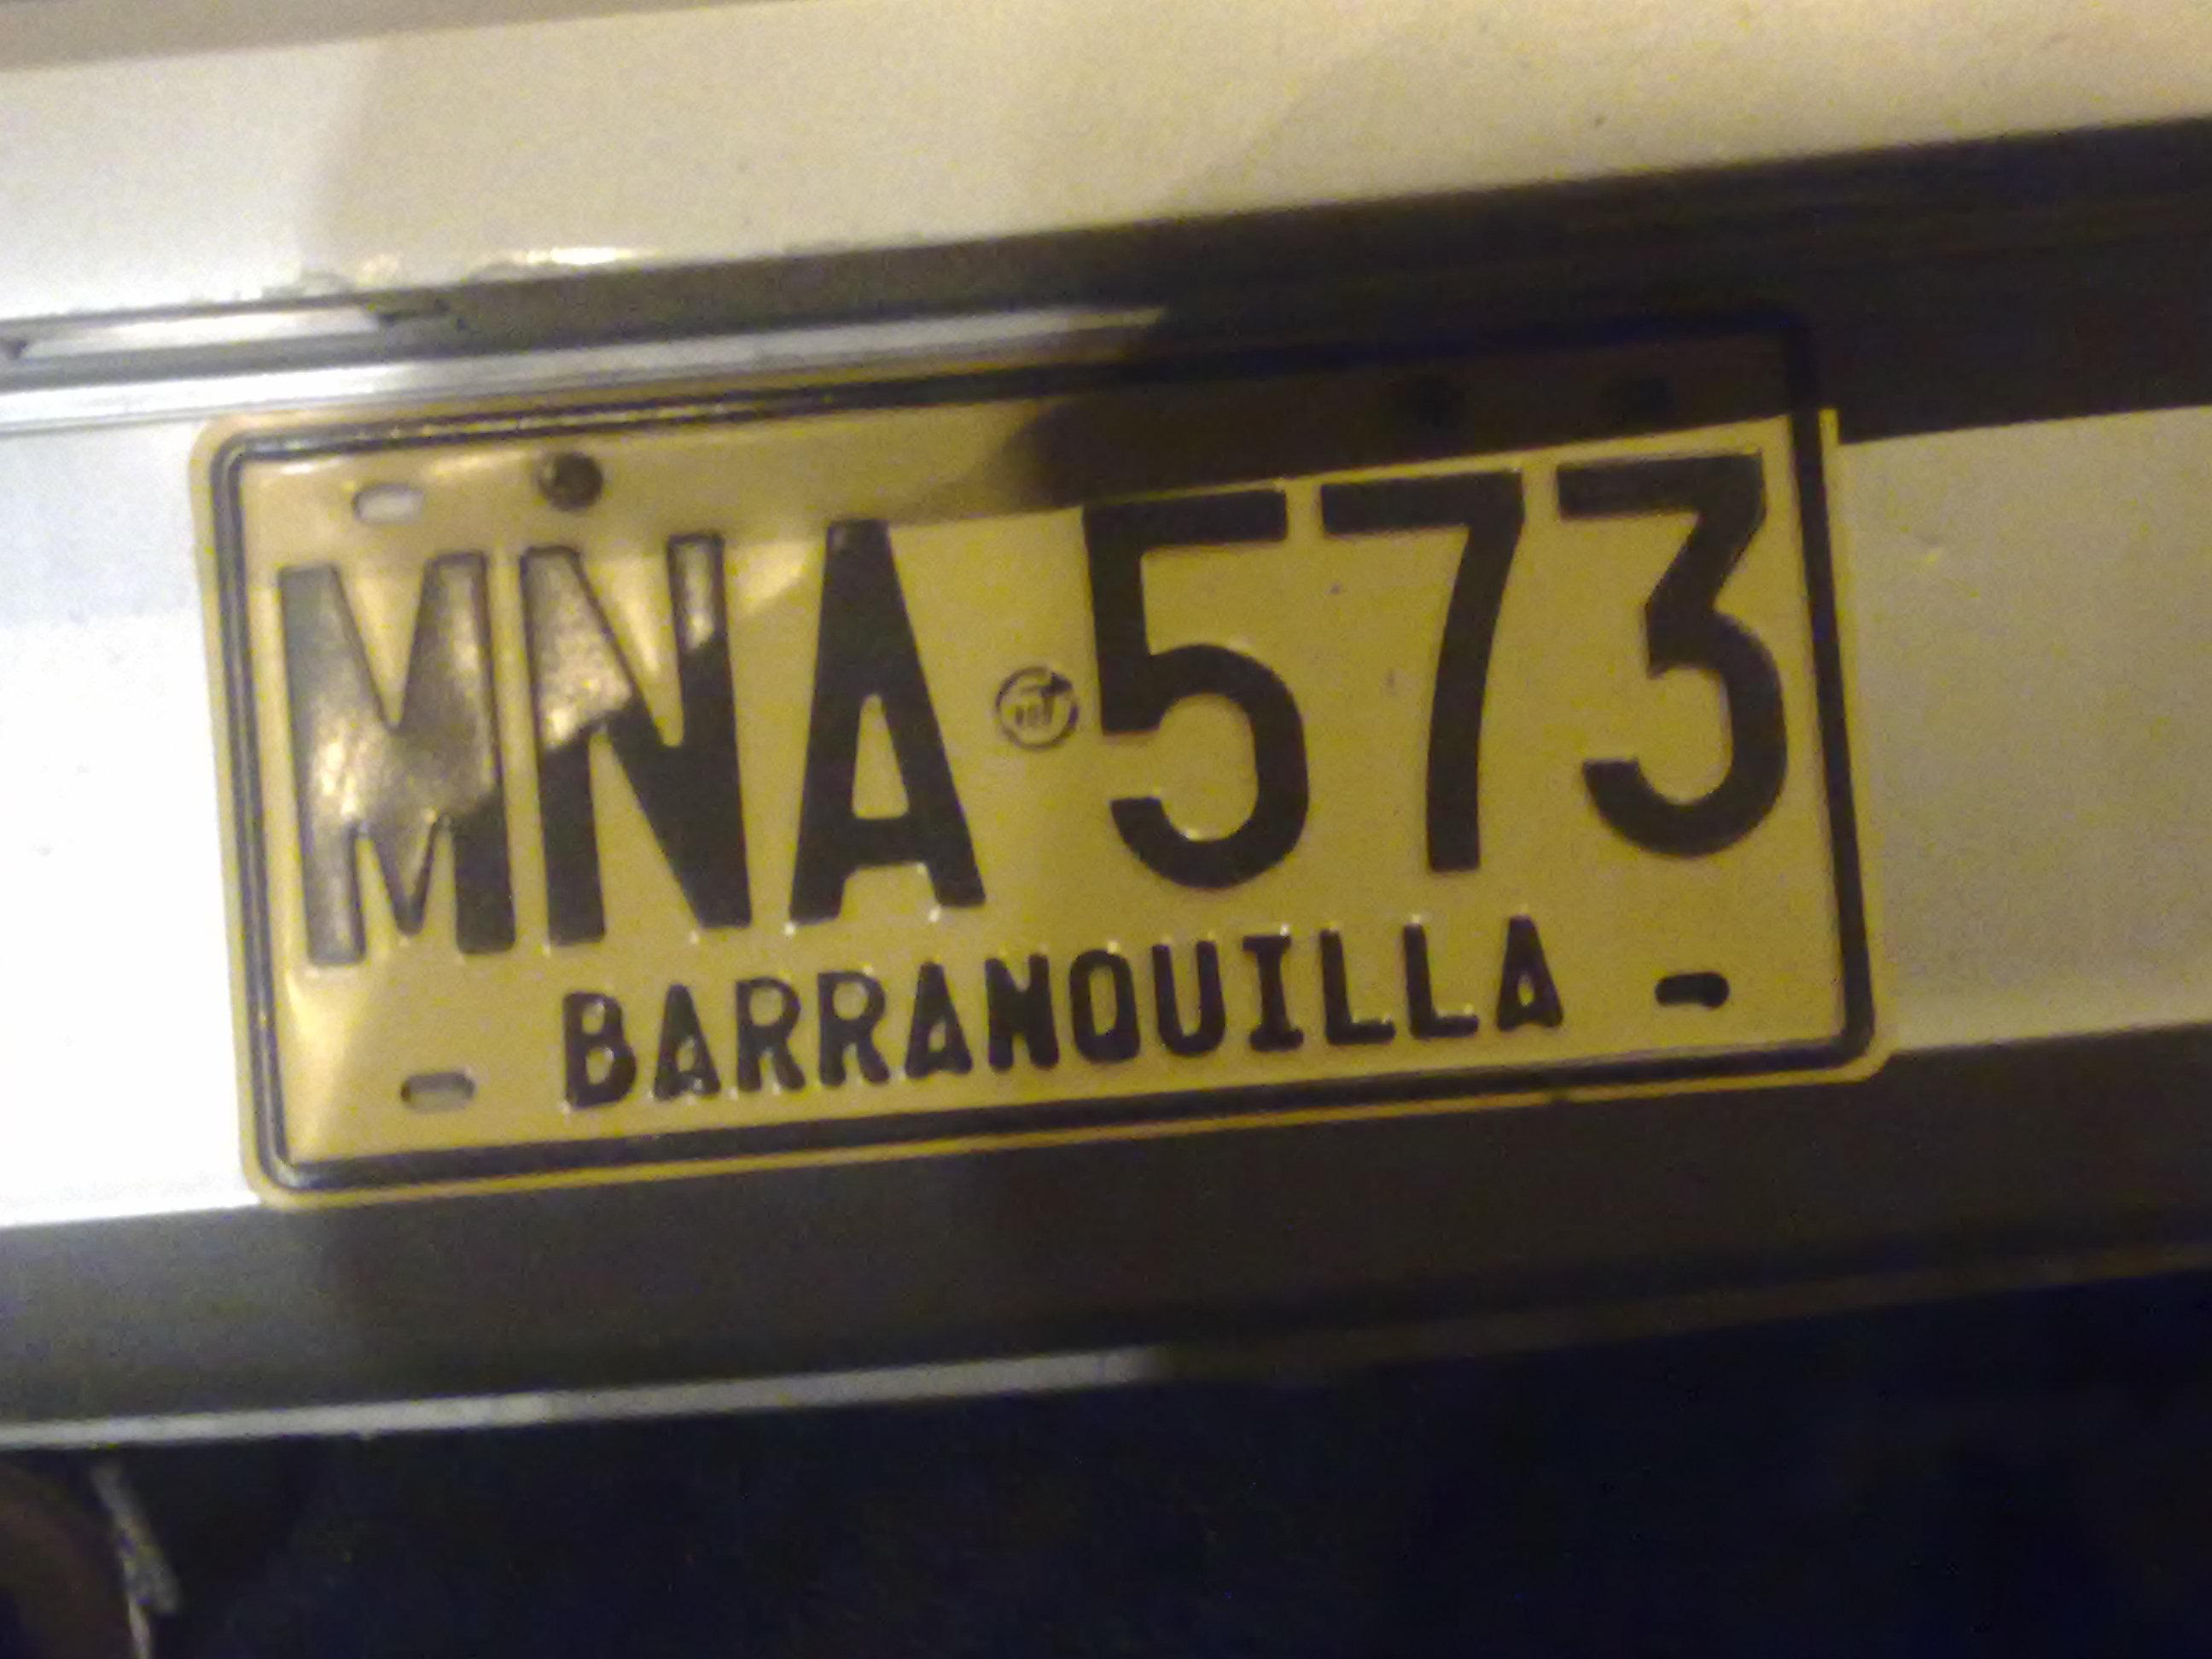placas: (178, 276, 1895, 1219)
